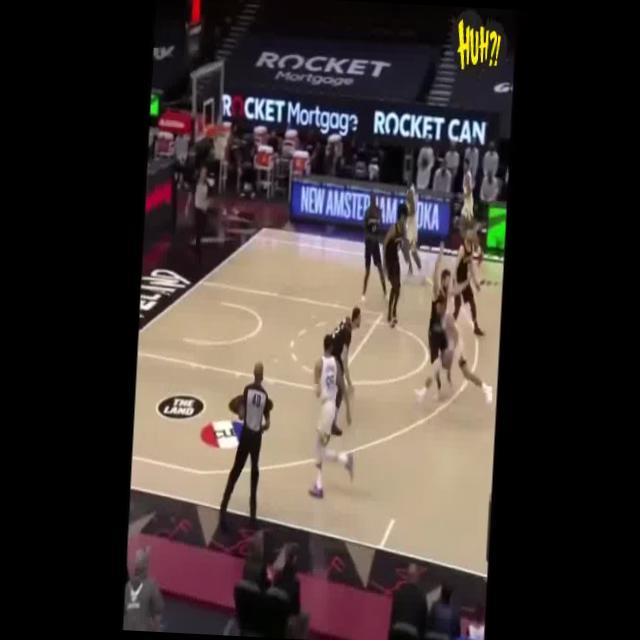ball-handler: (410, 291, 500, 418)
